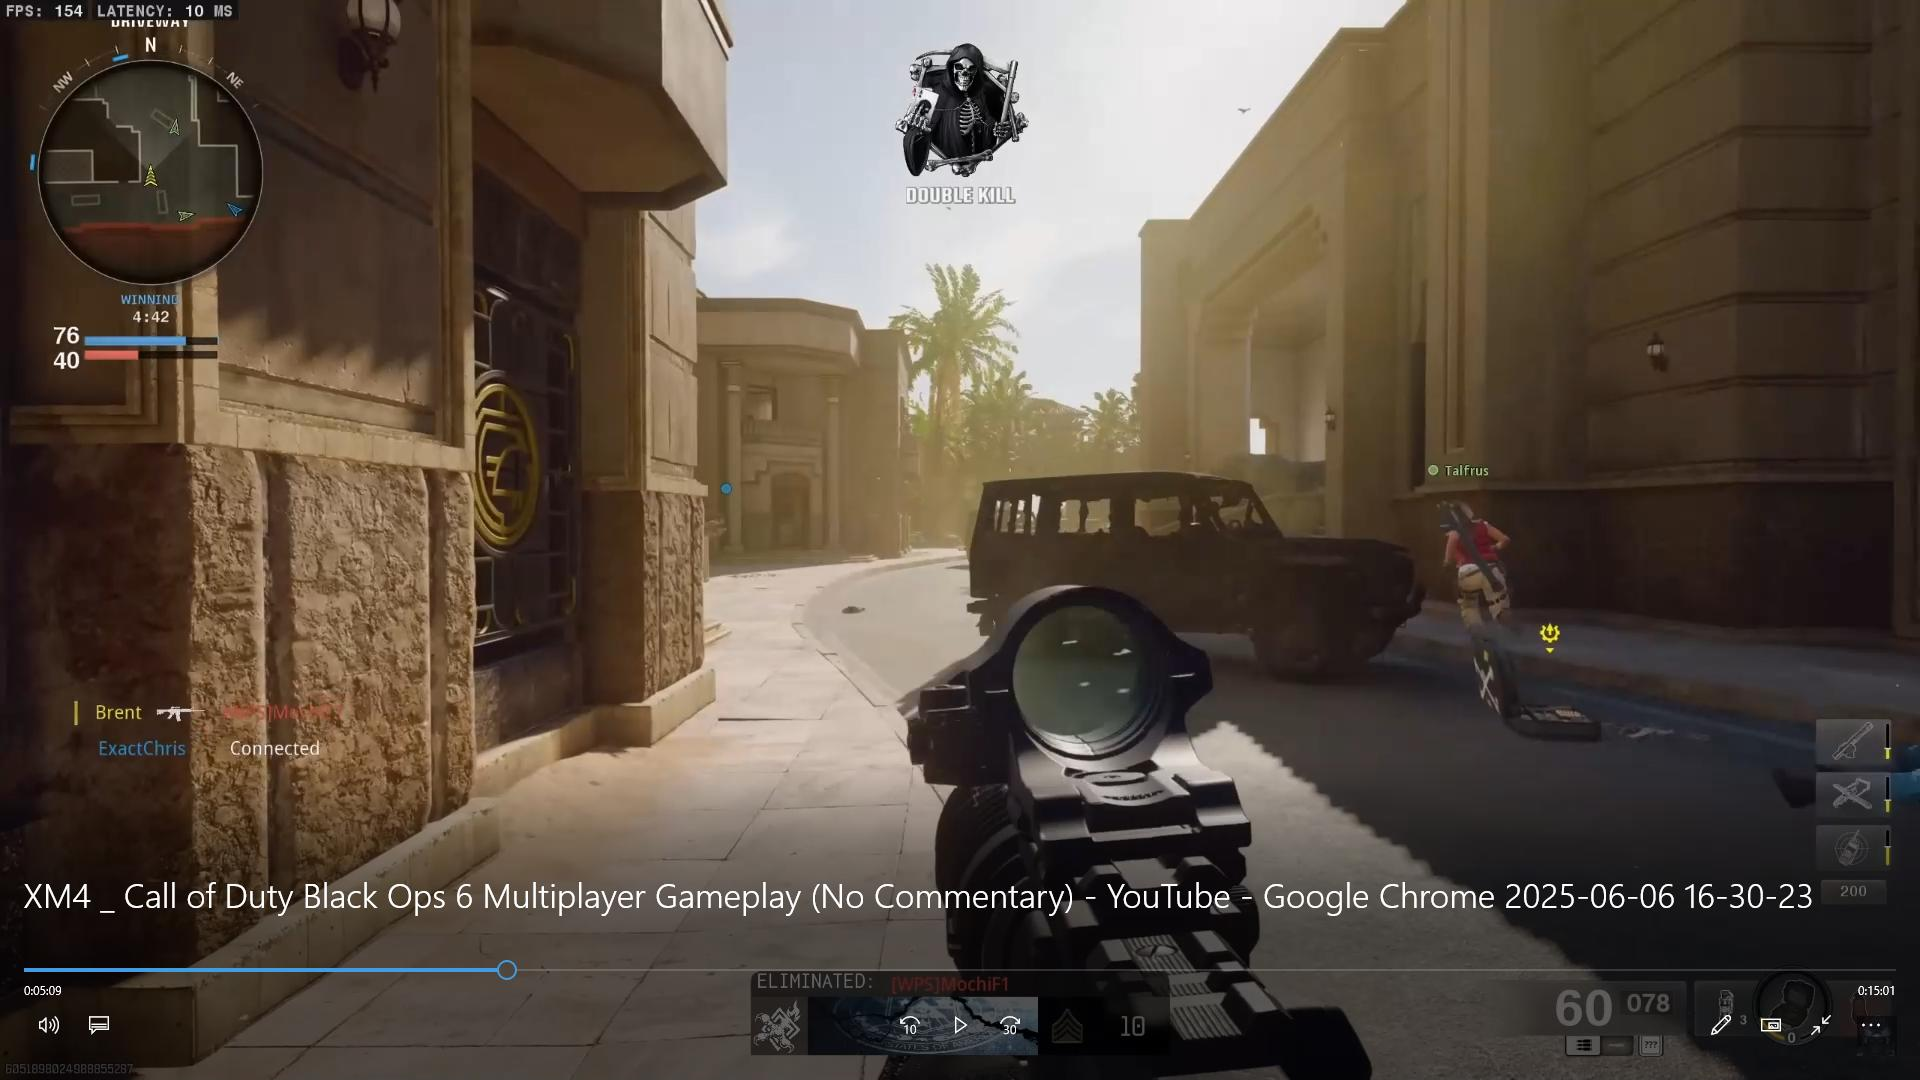Enemy: (1407, 485, 1538, 645)
